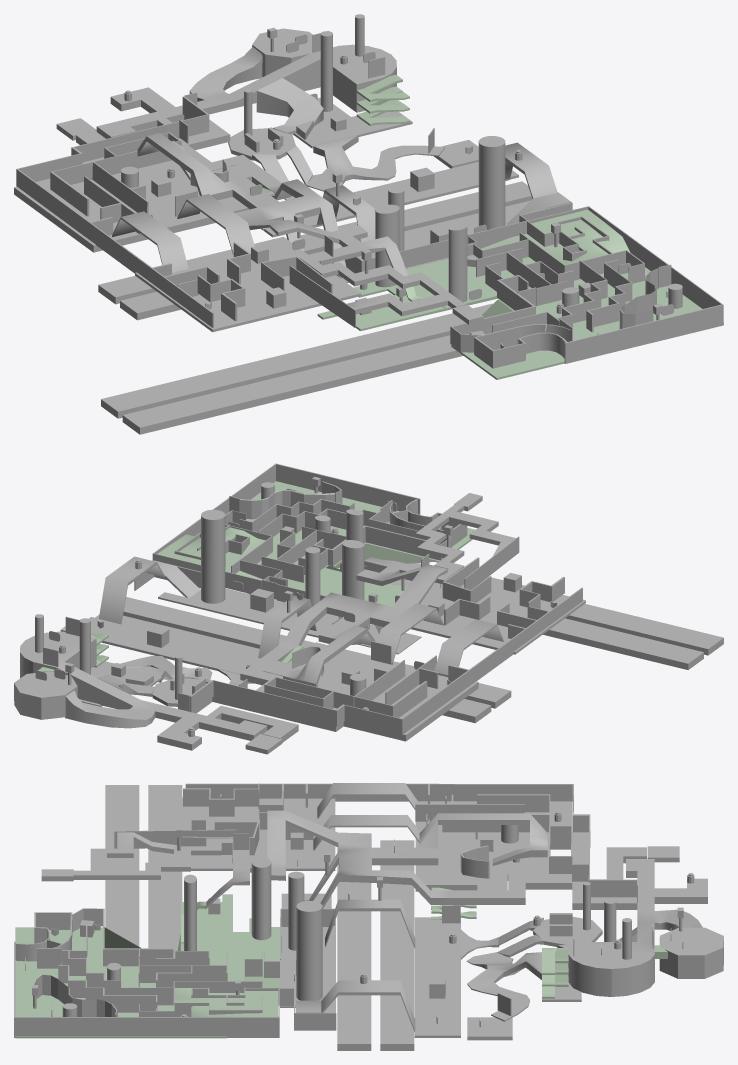
File: level+item.fbx
3 views of the same model, one above another, from view 1: azimuth 30°, elevation 25°; view 2: azimuth 150°, elevation 25°; view 3: azimuth 270°, elevation 25° (orthographic). The views are drawn at different scales.
Parts seen in each view (by area): view 1: polySurface1, pCube26, pCube43, pCube44, pCube59, pCube34, pCube63, pCube58, pCube41, pCube12, pCube17, pCylinder5 (+31 smaller); view 2: polySurface1, pCube59, pCube26, pCube34, pCube42, pCube58, pCube44, pCube63, pCube43, pCube17, pCube20, pCylinder5 (+31 smaller); view 3: polySurface1, pCube26, pCube59, pCube41, pCube34, pCube42, pCube17, pCube63, pCube44, pCube43, polySurface3, pCylinder3 (+37 smaller).
Part boxes in pixels (left/top/right/bottom): polySurface1: left=14, top=46, right=465, bottom=316; pCube26: left=317, top=209, right=723, bottom=379; pCube43: left=122, top=335, right=463, bottom=434; pCube44: left=101, top=303, right=492, bottom=418; pCube59: left=16, top=96, right=219, bottom=327; pCube34: left=528, top=206, right=723, bottom=363; pCube63: left=135, top=236, right=361, bottom=332; pCube58: left=50, top=132, right=181, bottom=216; pCube41: left=98, top=181, right=532, bottom=304; pCube12: left=305, top=135, right=444, bottom=191; pCube17: left=263, top=162, right=518, bottom=237; pCylinder5: left=478, top=136, right=505, bottom=229; polySurface1: left=33, top=503, right=515, bottom=750; pCube59: left=189, top=587, right=582, bottom=735; pCube26: left=157, top=481, right=475, bottom=606; pCube34: left=152, top=463, right=420, bottom=571; pCube42: left=123, top=597, right=511, bottom=708; pCube58: left=264, top=660, right=427, bottom=717; pCube44: left=364, top=569, right=703, bottom=669; pCube63: left=411, top=576, right=585, bottom=654; pCube43: left=364, top=563, right=723, bottom=655; pCube17: left=89, top=617, right=260, bottom=674; pCube20: left=98, top=556, right=200, bottom=624; pCylinder5: left=201, top=509, right=225, bottom=603; polySurface1: left=73, top=801, right=707, bottom=953; pCube26: left=15, top=894, right=279, bottom=1038; pCube59: left=185, top=783, right=636, bottom=897; pCube41: left=380, top=840, right=414, bottom=1050; pCube34: left=14, top=941, right=279, bottom=1037; pCube42: left=337, top=847, right=371, bottom=1050; pCube17: left=414, top=917, right=460, bottom=1037; pCube63: left=182, top=797, right=335, bottom=870; pCube44: left=148, top=785, right=182, bottom=950; pCube43: left=105, top=785, right=139, bottom=946; polySurface3: left=568, top=954, right=654, bottom=996; pCylinder3: left=659, top=927, right=723, bottom=978.
Size of the model in its own units: 80.16 by 15.1 by 92.83.
